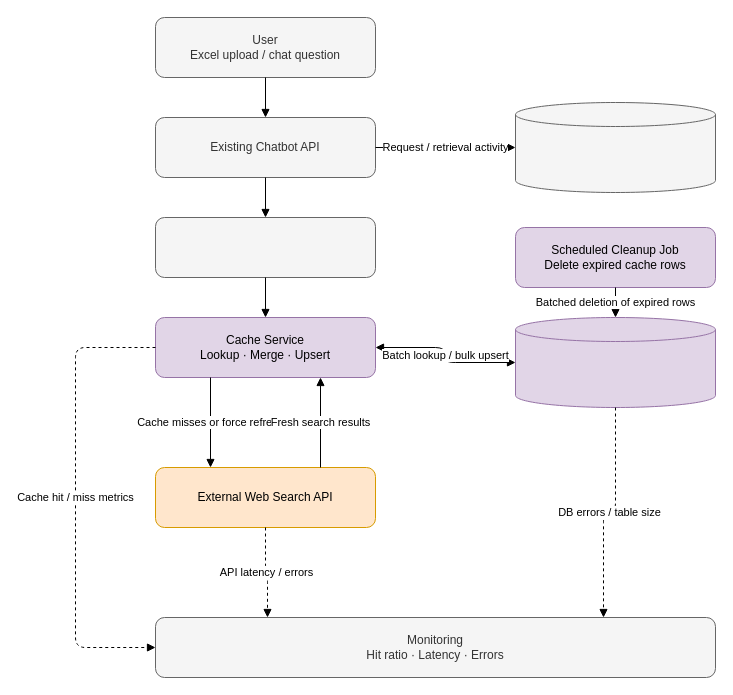
Image size: 733x695. Some labels were removed from this diagram. Each missing label, with the centre of its shape:
Existing Audit Logs Interaction / Retrieval Logs: the point at 615,147
MPN Processing Layer Extract · Normalize · Deduplicate: the point at 265,247
PostgreSQL mpn_search_cache: the point at 615,362
